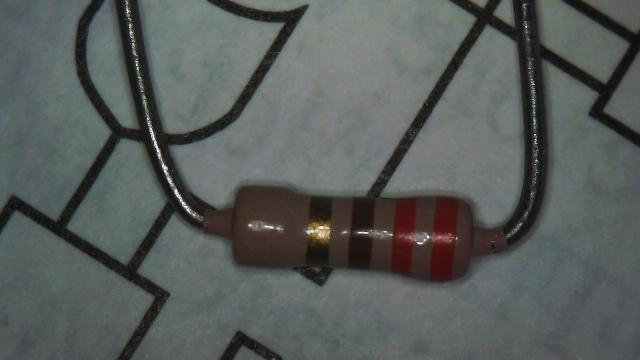brown: (350, 197, 373, 268)
gold: (306, 196, 332, 267)
orange: (430, 196, 458, 280), (390, 198, 415, 274)
resistor: (206, 144, 497, 314)
